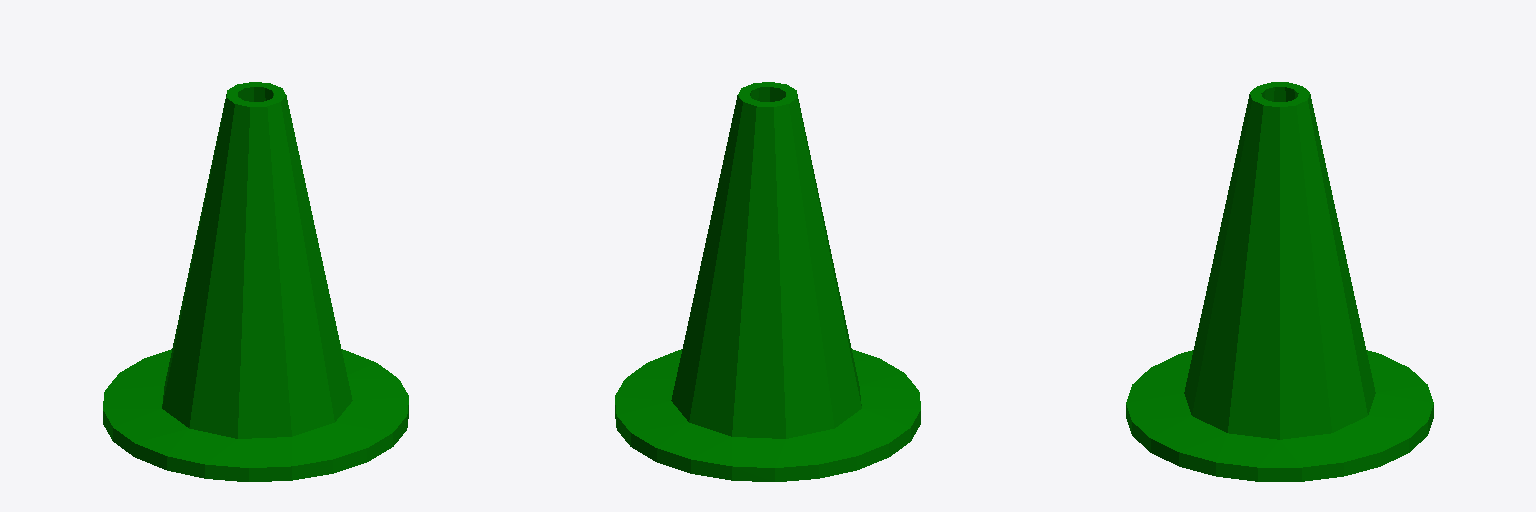
The model's file is RoadCone.obj.
3 views of the same model, side by side, from view 1: azimuth 30°, elevation 25°; view 2: azimuth 150°, elevation 25°; view 3: azimuth 270°, elevation 25° (orthographic).
Visible parts, largest first — view 1: Cone_LP_UV; view 2: Cone_LP_UV; view 3: Cone_LP_UV.
Part boxes in pixels (left/top/right/bottom): Cone_LP_UV: left=103, top=82, right=408, bottom=481; Cone_LP_UV: left=615, top=82, right=920, bottom=481; Cone_LP_UV: left=1126, top=82, right=1433, bottom=481.
Bounding box in the file's own units: 33.52 × 39.14 × 33.86.